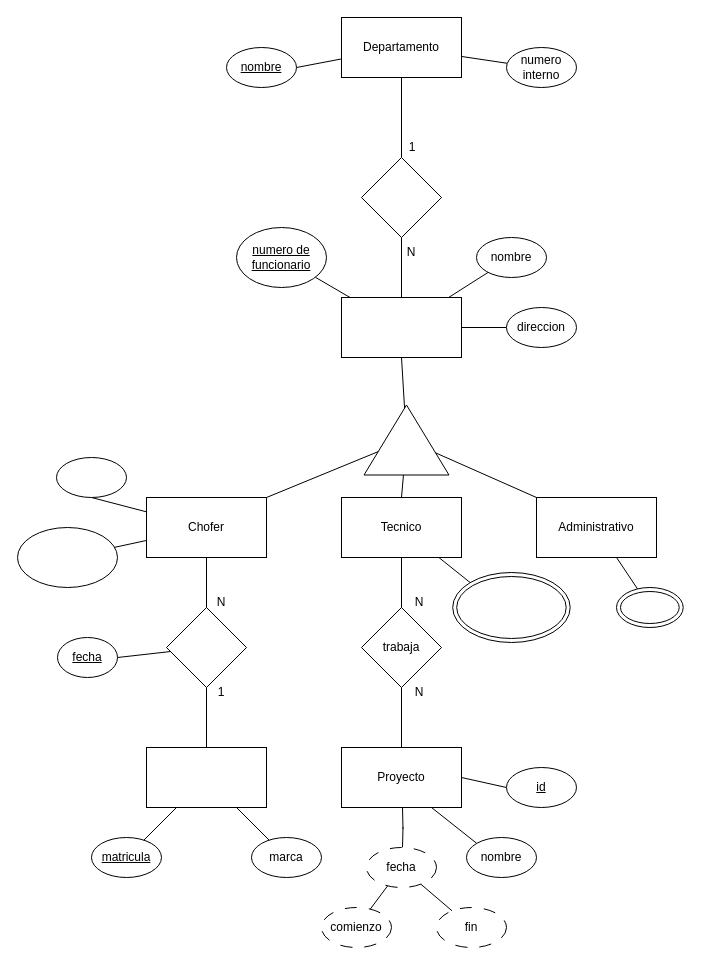
Some shapes in this 701 by 965 pixel diagram are drawn without their labels. The shapes that lost their labels are listed below. From the top down, each one's centre as x and y in pixels, then its label:
At point (401, 197): "tiene".
At point (401, 327): "Empleados".
At point (406, 439): "es".
At point (91, 477): "libreta de conducir".
At point (67, 557): "cantidad de accidentes".
At point (511, 607): "especialidades*".
At point (649, 607): "idiomas*".
At point (206, 647): "maneja".
At point (206, 777): "Coche".
